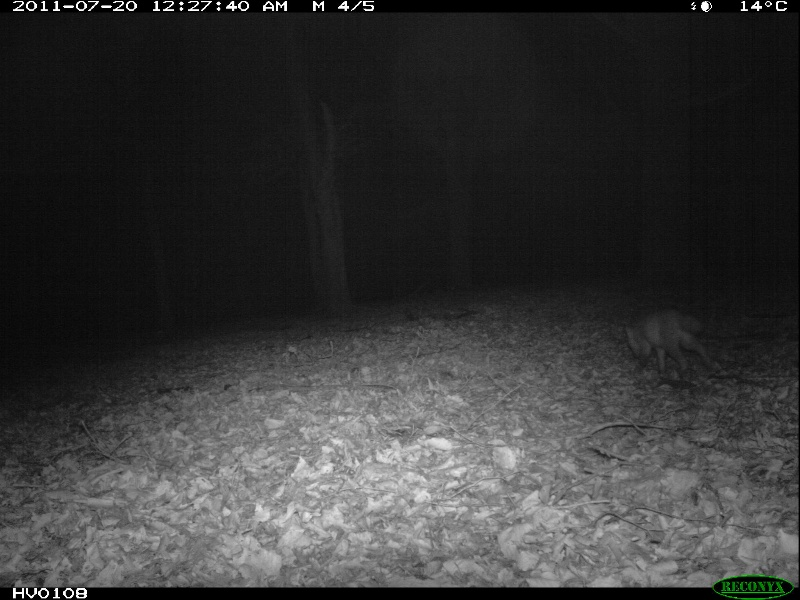fox: (619, 305, 727, 383)
